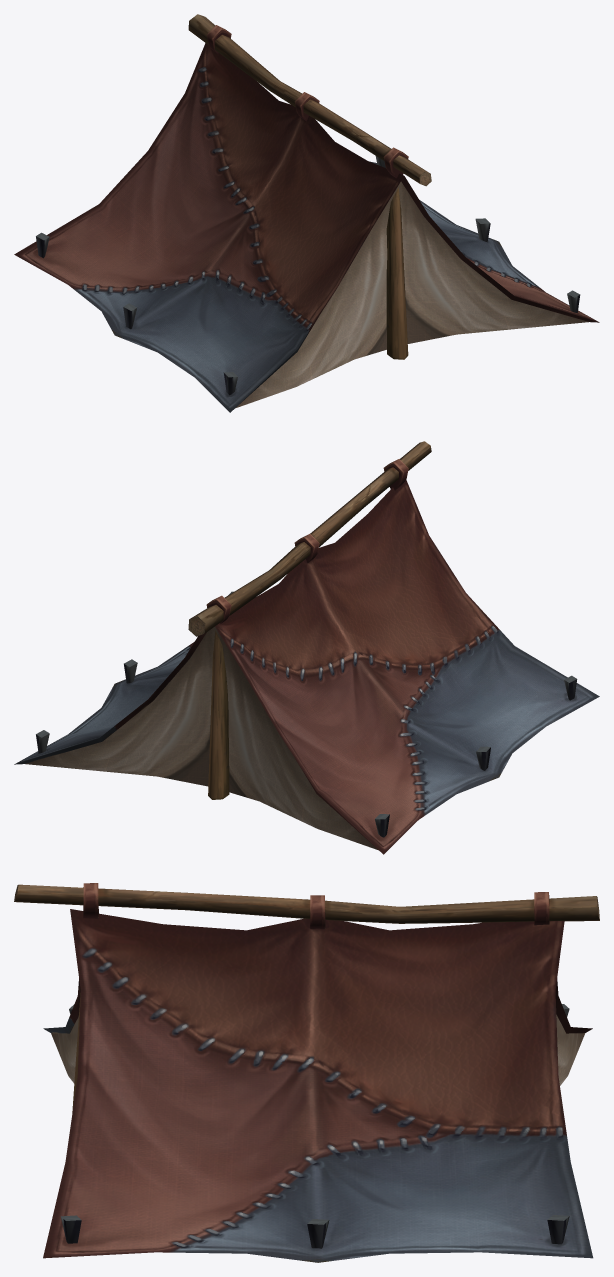
File: SV_AFT_forest_zhangpeng_3.FBX
3 views of the same model, one above another, from view 1: azimuth 30°, elevation 25°; view 2: azimuth 150°, elevation 25°; view 3: azimuth 270°, elevation 25° (orthographic). The views are drawn at different scales.
Parts seen in each view (by area): view 1: SV_AFT_forest_zhangpeng_3; view 2: SV_AFT_forest_zhangpeng_3; view 3: SV_AFT_forest_zhangpeng_3.
Boxes of the visible parts, left/top/right/bottom form: SV_AFT_forest_zhangpeng_3: left=14, top=14, right=599, bottom=412; SV_AFT_forest_zhangpeng_3: left=14, top=441, right=599, bottom=854; SV_AFT_forest_zhangpeng_3: left=14, top=883, right=599, bottom=1262.
Bounding box in the file's own units: 5.76 × 2.93 × 5.97.
